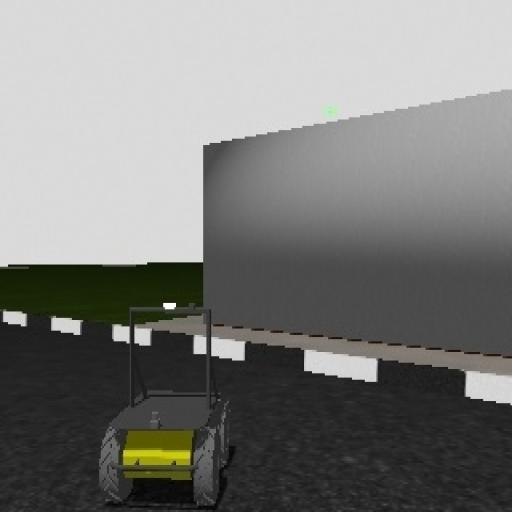huskya200: (96, 292, 244, 512)
